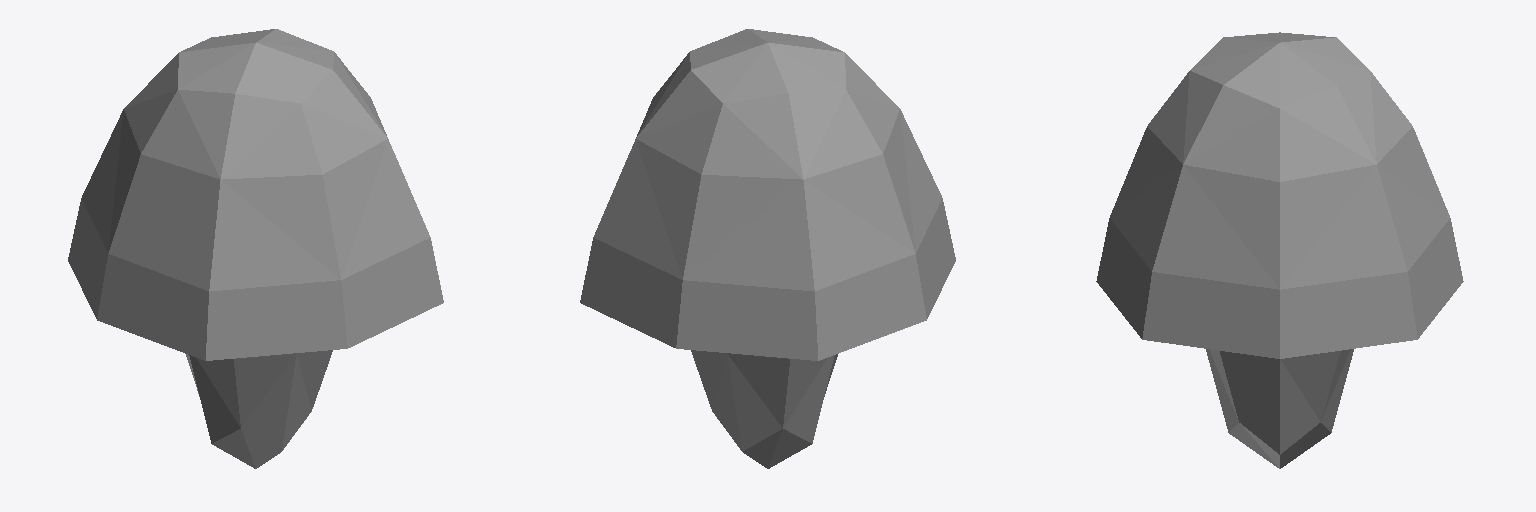
The model's file is mush.obj.
The picture shows the model from 3 angles: view 1: azimuth 30°, elevation 25°; view 2: azimuth 150°, elevation 25°; view 3: azimuth 270°, elevation 25°; orthographic projection.
Parts seen in each view (by area): view 1: Mesh_Cube; view 2: Mesh_Cube; view 3: Mesh_Cube.
Boxes of the visible parts, x1=… form: Mesh_Cube: x1=68, y1=29, x2=443, y2=468; Mesh_Cube: x1=580, y1=29, x2=955, y2=468; Mesh_Cube: x1=1096, y1=32, x2=1463, y2=468.
Size of the model in its own units: 0.5374 by 0.6892 by 0.5374.